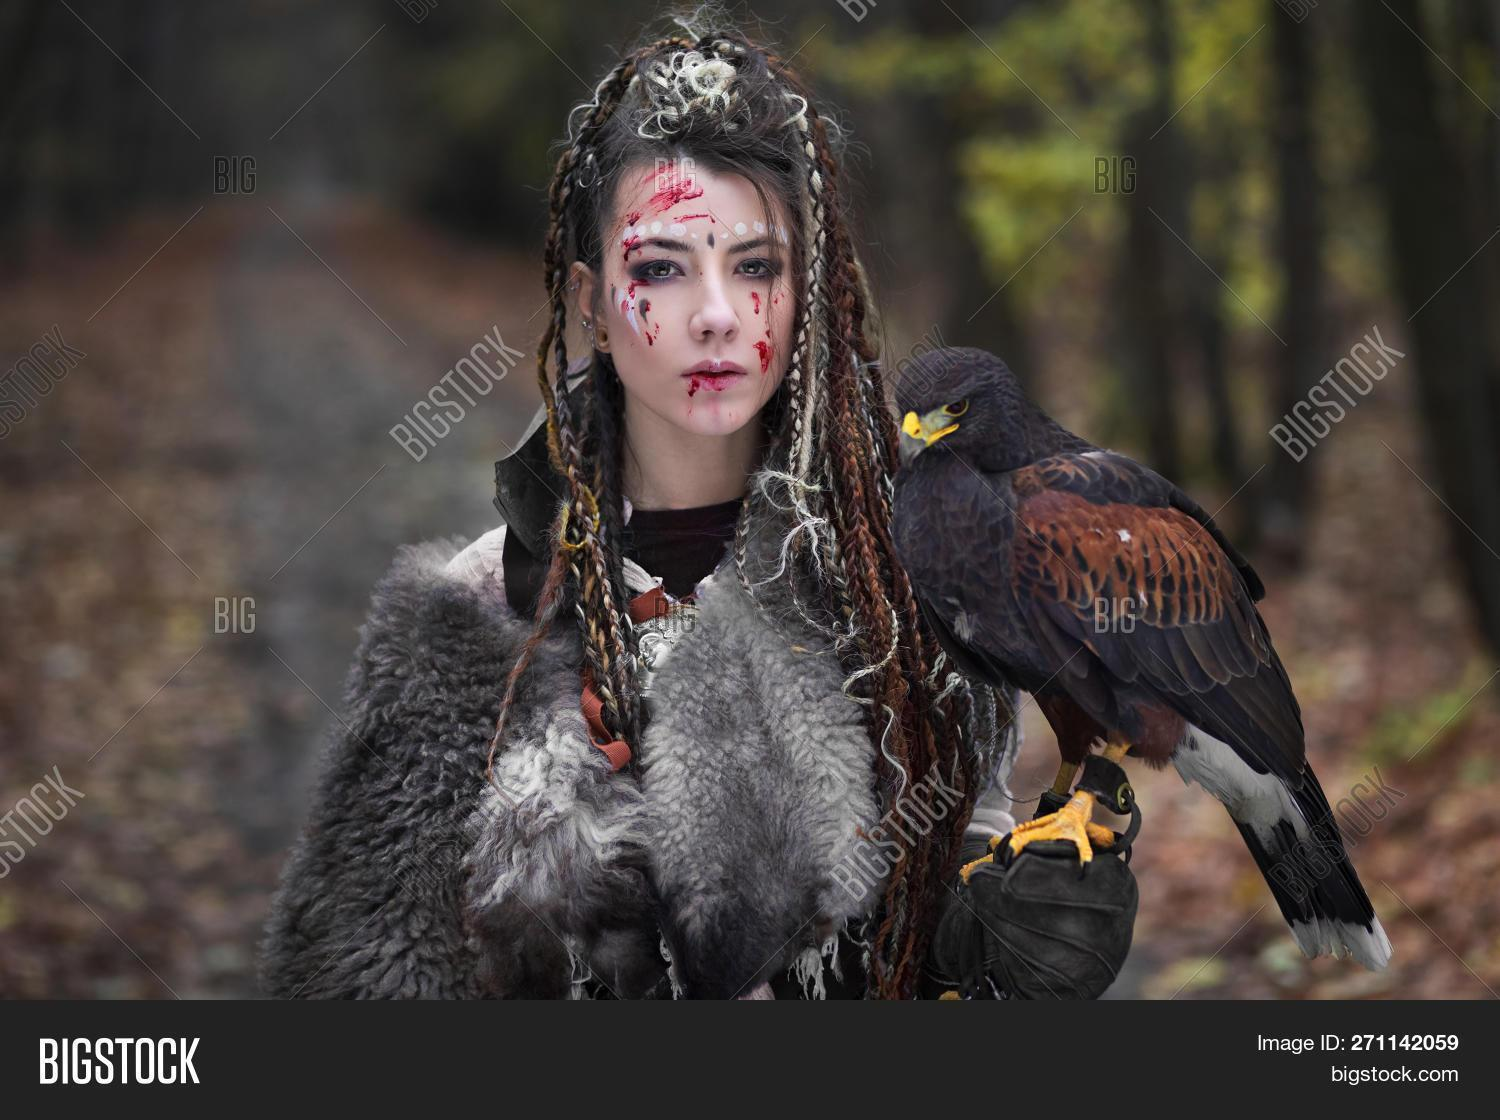Fire: (645, 161, 704, 211), (612, 276, 648, 302), (753, 340, 775, 373), (622, 225, 644, 256), (687, 375, 702, 414), (619, 293, 634, 320), (674, 211, 714, 220), (769, 288, 785, 309), (641, 329, 660, 345), (626, 206, 639, 226), (641, 296, 654, 314), (753, 291, 761, 313), (765, 326, 774, 340)
